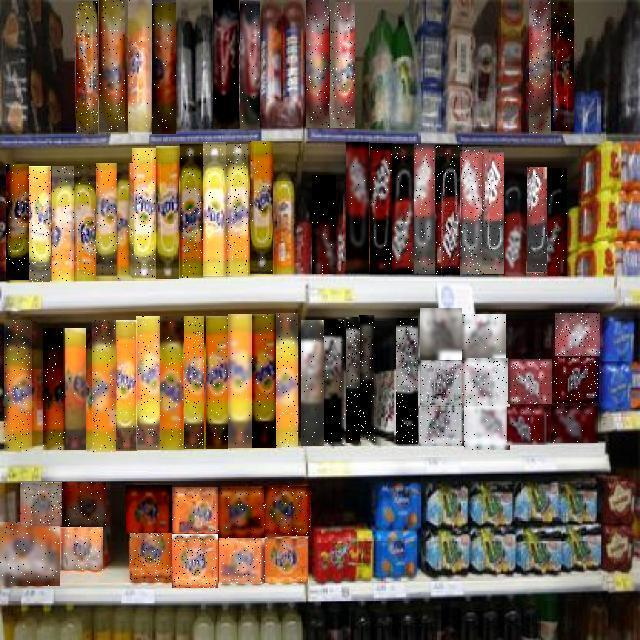Drinks: (0, 522, 60, 586), (5, 320, 33, 451), (99, 0, 125, 132), (436, 144, 462, 276), (213, 0, 239, 129), (136, 316, 161, 450), (128, 0, 152, 134), (152, 0, 176, 134), (252, 315, 276, 449), (228, 315, 252, 449), (92, 320, 116, 452), (330, 3, 355, 129), (132, 148, 156, 278), (160, 316, 183, 450), (180, 144, 203, 278), (203, 142, 226, 276), (156, 146, 179, 279), (250, 141, 273, 274), (346, 142, 369, 273), (551, 0, 574, 131), (276, 313, 298, 447), (529, 0, 551, 134), (306, 0, 329, 128), (76, 1, 98, 134), (206, 316, 228, 449), (226, 144, 248, 276), (301, 320, 324, 446), (370, 143, 392, 274), (115, 320, 137, 451), (413, 144, 435, 274), (392, 144, 414, 274), (460, 148, 482, 276), (396, 318, 418, 444), (324, 320, 346, 446), (482, 149, 504, 274), (65, 328, 87, 450), (43, 328, 65, 450), (6, 165, 29, 281), (184, 316, 204, 449), (240, 1, 260, 130), (29, 166, 51, 282), (52, 166, 74, 282), (96, 164, 118, 280), (173, 535, 219, 589), (312, 175, 336, 274), (76, 165, 96, 281), (554, 358, 602, 406), (265, 486, 311, 536), (219, 488, 265, 538), (126, 485, 172, 533), (463, 359, 509, 407), (420, 308, 462, 360), (527, 168, 547, 276), (506, 170, 526, 276), (173, 487, 219, 533), (464, 404, 510, 450), (266, 537, 312, 583), (220, 538, 266, 584), (548, 169, 567, 277), (360, 316, 376, 442), (130, 534, 172, 582), (420, 362, 462, 410), (508, 359, 552, 404), (62, 482, 106, 527), (556, 313, 602, 356), (462, 314, 506, 358), (118, 164, 134, 280), (60, 527, 103, 570), (20, 482, 62, 526), (552, 406, 600, 443), (346, 317, 360, 443), (419, 408, 464, 446), (508, 407, 550, 445)
